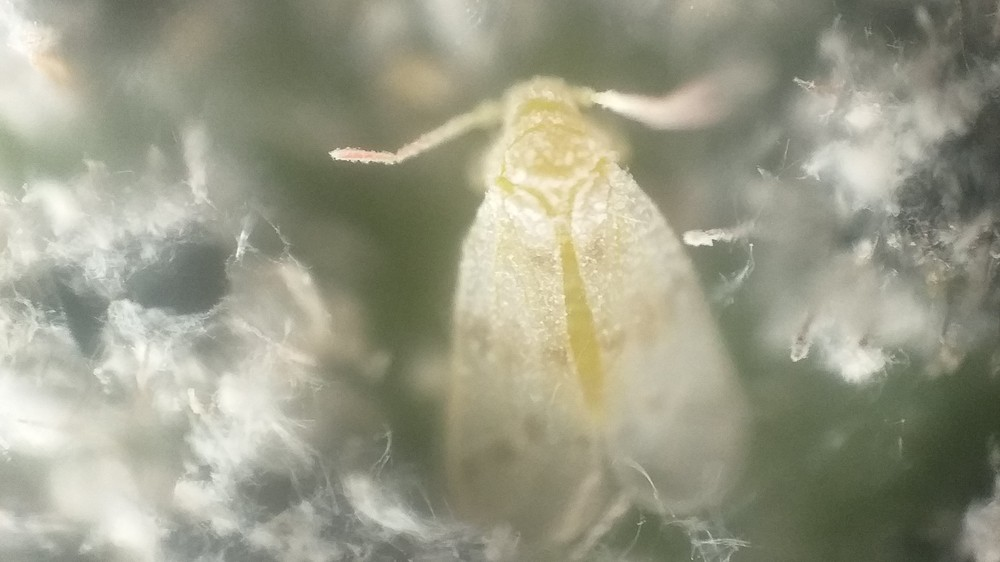Mosca Blanca: (339, 66, 802, 539)
